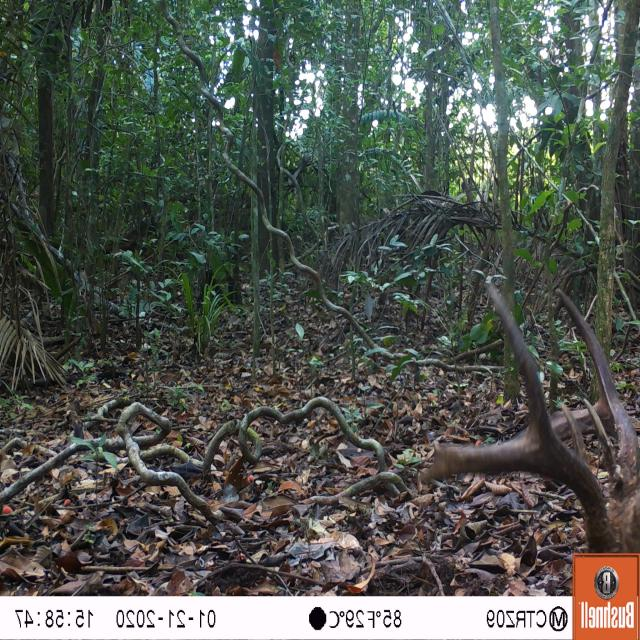White-tailed Deer: (417, 270, 640, 550)
